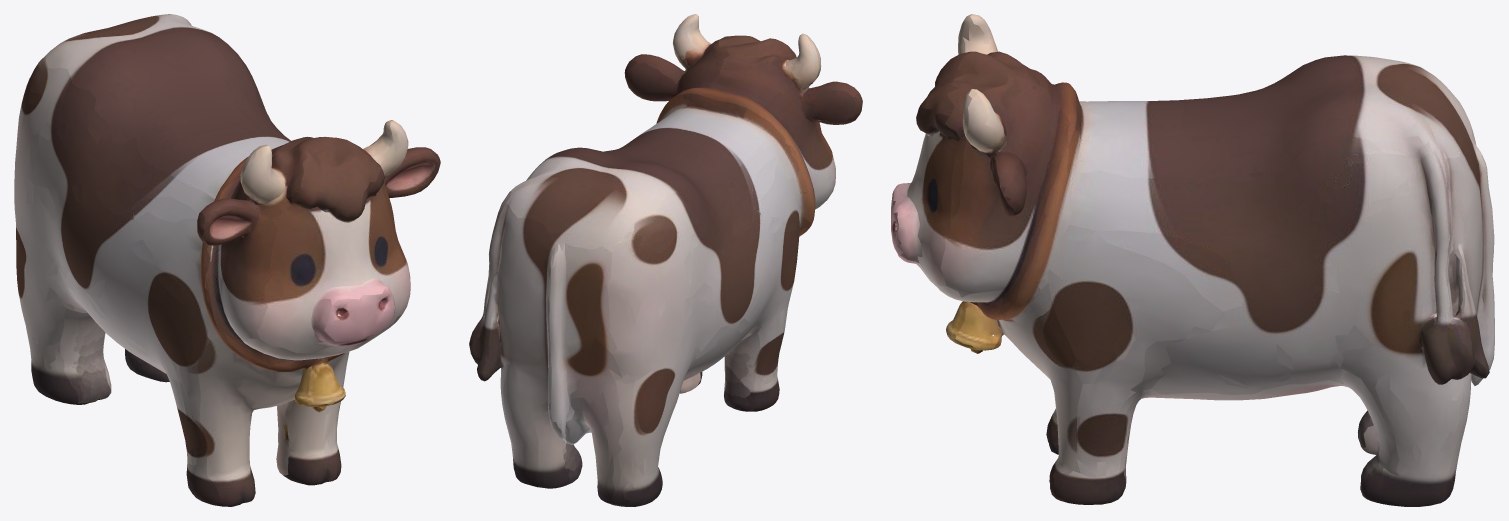
Rendered from cow_brown.glb.
The picture shows the model from 3 angles, left to right: view 1: azimuth 30°, elevation 25°; view 2: azimuth 150°, elevation 25°; view 3: azimuth 270°, elevation 25°; orthographic projection. The views are drawn at different scales.
Parts seen in each view (by area): view 1: cow_brown_s21; view 2: cow_brown_s21; view 3: cow_brown_s21.
Part boxes in pixels (x1,y1,x2,y2): cow_brown_s21: (14, 14, 440, 506); cow_brown_s21: (469, 14, 862, 506); cow_brown_s21: (891, 14, 1494, 506).
Size of the model in its own units: 0.5395 by 0.7794 by 1.
1 material, 1 textured.
